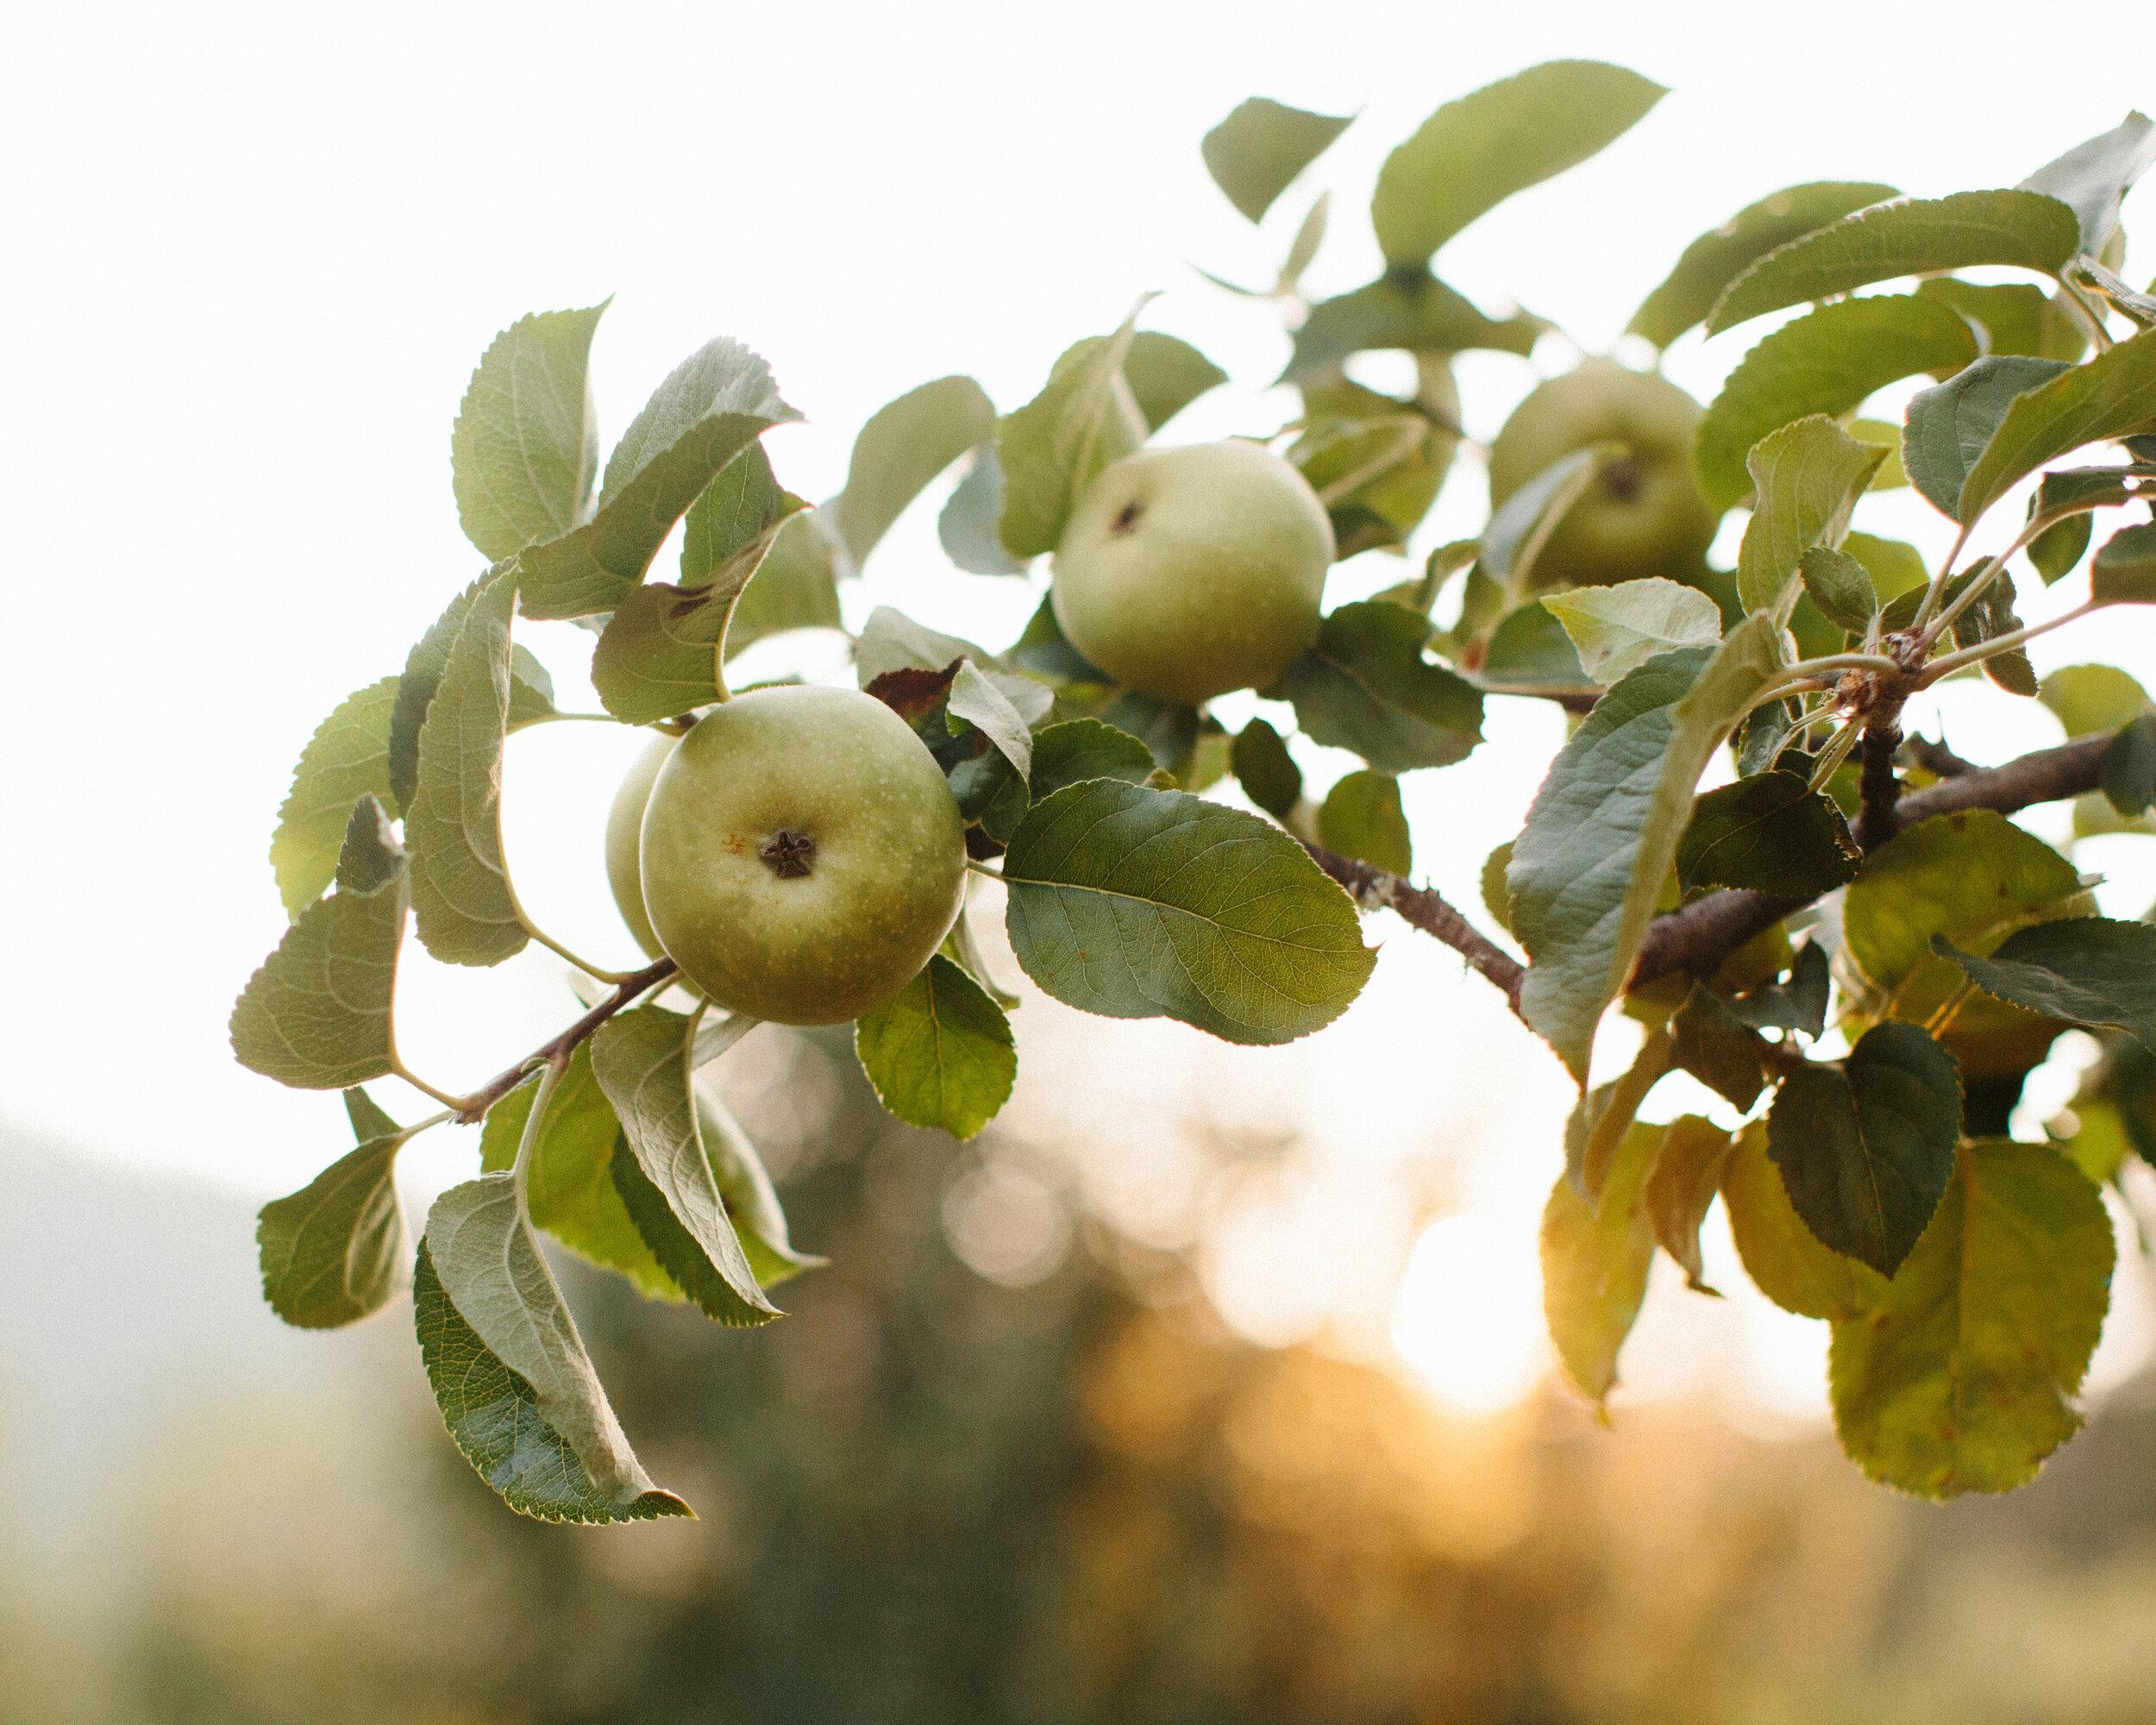apple: (632, 686, 957, 1030), (1051, 431, 1336, 708)
